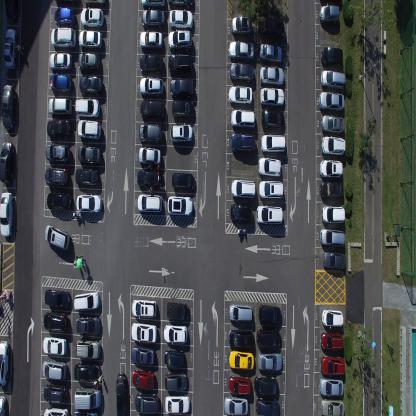car: (44, 223, 70, 252), (1, 83, 16, 132), (0, 190, 15, 238), (0, 140, 15, 186), (50, 26, 76, 51), (256, 201, 284, 224), (74, 387, 102, 410), (73, 290, 100, 313), (3, 27, 17, 71), (79, 6, 104, 30), (131, 320, 157, 343), (167, 193, 193, 216), (259, 64, 285, 87), (75, 315, 102, 337), (74, 361, 101, 383), (318, 90, 346, 111), (131, 297, 157, 319), (230, 176, 256, 198), (230, 131, 256, 153), (75, 338, 101, 360), (134, 391, 160, 413), (46, 190, 72, 212), (45, 142, 71, 164), (46, 118, 72, 140), (74, 96, 100, 118), (228, 40, 254, 62), (320, 68, 346, 90), (42, 310, 68, 332), (44, 288, 70, 310), (164, 394, 191, 415), (230, 200, 254, 223), (168, 52, 192, 75), (168, 29, 192, 52), (320, 112, 345, 134), (77, 144, 102, 166), (170, 98, 195, 120), (168, 8, 193, 30), (258, 42, 283, 64), (318, 157, 343, 179), (320, 227, 345, 249), (320, 354, 345, 376), (42, 359, 67, 381), (260, 132, 286, 153), (76, 193, 102, 214), (136, 168, 162, 189), (230, 108, 256, 129), (257, 351, 283, 372), (261, 108, 284, 131), (258, 303, 281, 326), (166, 300, 190, 322), (258, 154, 282, 176), (139, 123, 163, 145), (320, 178, 344, 200), (77, 118, 101, 140), (78, 29, 102, 51), (78, 74, 102, 96), (140, 99, 164, 121), (139, 29, 163, 51), (230, 61, 254, 83), (254, 376, 278, 398), (256, 327, 280, 349), (43, 382, 67, 404), (163, 323, 188, 344), (260, 86, 285, 107), (321, 135, 346, 156), (42, 335, 67, 356), (258, 178, 284, 198), (137, 193, 163, 213), (116, 372, 128, 415), (75, 166, 98, 188), (78, 51, 101, 73), (49, 72, 72, 94), (142, 7, 165, 29), (262, 16, 285, 38), (321, 45, 344, 67), (228, 374, 251, 396), (131, 345, 155, 366), (170, 76, 194, 97), (140, 53, 164, 74), (0, 339, 10, 389), (44, 166, 69, 186), (48, 51, 73, 71), (228, 85, 253, 105), (228, 329, 254, 348), (323, 250, 346, 271), (164, 372, 188, 392), (139, 76, 163, 96), (321, 204, 345, 224), (228, 302, 252, 322), (320, 332, 344, 352), (170, 123, 193, 143), (138, 146, 161, 166), (321, 308, 344, 328), (224, 396, 248, 415), (48, 96, 72, 115), (318, 378, 343, 396), (132, 370, 154, 390), (54, 6, 74, 28), (231, 16, 253, 36), (171, 171, 194, 190), (320, 397, 344, 415), (164, 348, 185, 368), (320, 4, 340, 24), (4, 0, 18, 23), (43, 405, 68, 415), (168, 0, 194, 8), (141, 0, 165, 8), (53, 0, 79, 7), (81, 0, 105, 7), (0, 394, 7, 416), (72, 410, 99, 415)
